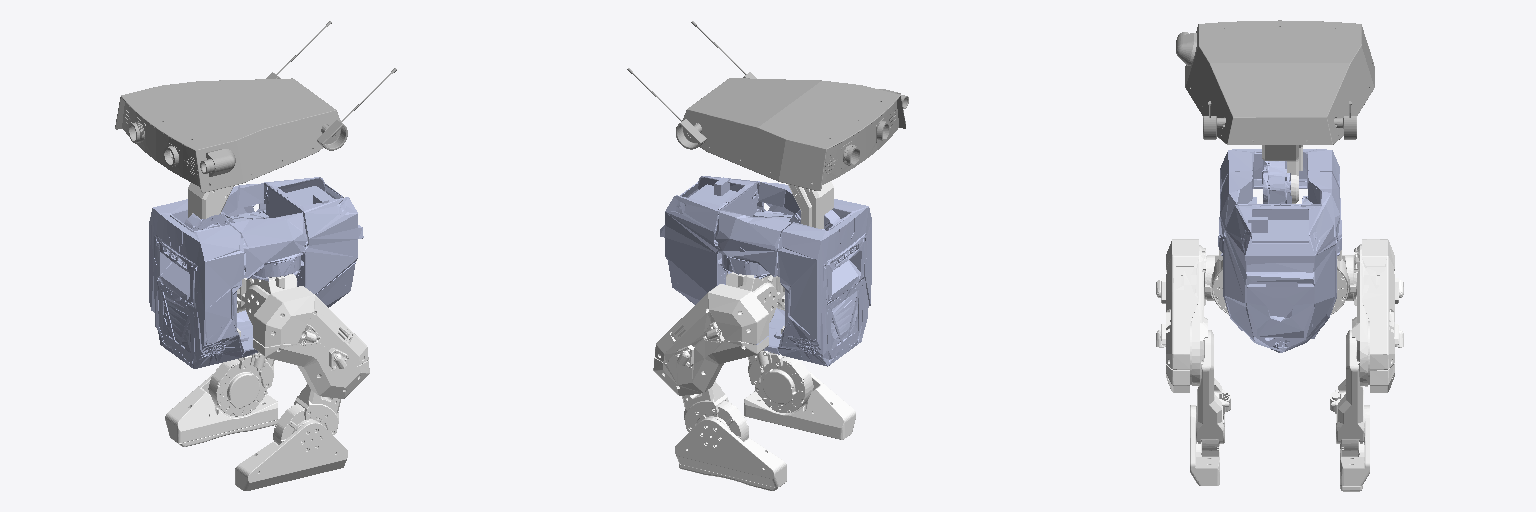
robot.urdf — ocean:
<?xml version="1.0" encoding="utf-8"?>
<!-- This URDF was automatically created by SolidWorks to URDF Exporter! Originally created by Stephen Brawner (brawner@gmail.com) 
     Commit Version: 1.6.0-4-g7f85cfe  Build Version: 1.6.7995.38578
     For more information, please see http://wiki.ros.org/sw_urdf_exporter -->
<robot
  name="ocean">
  <link
    name="base_link">
    <inertial>
      <origin
        xyz="0.033838 -0.0012004 -0.053283"
        rpy="0 0 0" />
      <mass
        value="4.2921" />
      <inertia
        ixx="0.013397"
        ixy="8.1389E-06"
        ixz="-0.0001569"
        iyy="0.010717"
        iyz="2.9147E-05"
        izz="0.00908" />
    </inertial>
    <visual>
      <origin
        xyz="0 0 0"
        rpy="0 0 0" />
      <geometry>
        <mesh
          filename="package://ocean_description/meshes/base_link.STL" />
      </geometry>
      <material
        name="">
        <color
          rgba="0.79216 0.81961 0.93333 1" />
      </material>
    </visual>
    <collision>
      <origin
        xyz="0 0 0"
        rpy="0 0 0" />
      <geometry>
        <mesh
          filename="package://ocean_description/meshes/base_link.STL" />
      </geometry>
    </collision>
  </link>
  <link
    name="leg_r1_link">
    <inertial>
      <origin
        xyz="-0.0041199 -0.0058777 0.050037"
        rpy="0 0 0" />
      <mass
        value="0.33146" />
      <inertia
        ixx="0.00049845"
        ixy="-4.5537E-08"
        ixz="2.2168E-05"
        iyy="0.00030507"
        iyz="2.0354E-06"
        izz="0.00025744" />
    </inertial>
    <visual>
      <origin
        xyz="0 0 0"
        rpy="0 0 0" />
      <geometry>
        <mesh
          filename="package://ocean_description/meshes/leg_r1_link.STL" />
      </geometry>
      <material
        name="">
        <color
          rgba="1 1 1 1" />
      </material>
    </visual>
    <collision>
      <origin
        xyz="0 0 0"
        rpy="0 0 0" />
      <geometry>
        <mesh
          filename="package://ocean_description/meshes/leg_r1_link.STL" />
      </geometry>
    </collision>
  </link>
  <joint
    name="leg_r1_joint"
    type="revolute">
    <origin
      xyz="0.020771 0.045349 -0.0423"
      rpy="-3.1416 0 0" />
    <parent
      link="base_link" />
    <child
      link="leg_r1_link" />
    <axis
      xyz="0 0 -1" />
    <limit
      lower="-0.436"
      upper="0.349"
      effort="100"
      velocity="6" />
  </joint>
  <link
    name="leg_r2_link">
    <inertial>
      <origin
        xyz="-0.03259 -8.6224E-05 0.0065541"
        rpy="0 0 0" />
      <mass
        value="0.15568" />
      <inertia
        ixx="6.954E-05"
        ixy="-1.8081E-07"
        ixz="-1.0241E-05"
        iyy="0.00016138"
        iyz="-1.4022E-07"
        izz="0.00018569" />
    </inertial>
    <visual>
      <origin
        xyz="0 0 0"
        rpy="0 0 0" />
      <geometry>
        <mesh
          filename="package://ocean_description/meshes/leg_r2_link.STL" />
      </geometry>
      <material
        name="">
        <color
          rgba="1 1 1 1" />
      </material>
    </visual>
    <collision>
      <origin
        xyz="0 0 0"
        rpy="0 0 0" />
      <geometry>
        <mesh
          filename="package://ocean_description/meshes/leg_r2_link.STL" />
      </geometry>
    </collision>
  </link>
  <joint
    name="leg_r2_joint"
    type="revolute">
    <origin
      xyz="-0.019601 -0.0054769 0.055609"
      rpy="-1.5708 0 1.5708" />
    <parent
      link="leg_r1_link" />
    <child
      link="leg_r2_link" />
    <axis
      xyz="0 0 -1" />
    <limit
      lower="-0.750"
      upper="0.262"
      effort="100"
      velocity="6" />
  </joint>
  <link
    name="leg_r3_link">
    <inertial>
      <origin
        xyz="-0.039555 -0.043339 -0.018416"
        rpy="0 0 0" />
      <mass
        value="0.73927" />
      <inertia
        ixx="0.0010276"
        ixy="-0.00040466"
        ixz="-9.9665E-06"
        iyy="0.0008075"
        iyz="-1.4606E-05"
        izz="0.0017539" />
    </inertial>
    <visual>
      <origin
        xyz="0 0 0"
        rpy="0 0 0" />
      <geometry>
        <mesh
          filename="package://ocean_description/meshes/leg_r3_link.STL" />
      </geometry>
      <material
        name="">
        <color
          rgba="1 1 1 1" />
      </material>
    </visual>
    <collision>
      <origin
        xyz="0 0 0"
        rpy="0 0 0" />
      <geometry>
        <mesh
          filename="package://ocean_description/meshes/leg_r3_link.STL" />
      </geometry>
    </collision>
  </link>
  <joint
    name="leg_r3_joint"
    type="revolute">
    <origin
      xyz="-0.0697599164232302 0 0.0033867789847717"
      rpy="1.5707963267949 0 1.5707963267949" />
    <parent
      link="leg_r2_link" />
    <child
      link="leg_r3_link" />
    <axis
      xyz="0 0 -1" />
    <limit
      lower="-1.361"
      upper="0.489"
      effort="100"
      velocity="6" />
  </joint>
  <link
    name="leg_r4_link">
    <inertial>
      <origin
        xyz="-0.085353 0.013534 0.014528"
        rpy="0 0 0" />
      <mass
        value="0.45582" />
      <inertia
        ixx="0.00023248"
        ixy="8.0216E-06"
        ixz="1.5757E-05"
        iyy="0.00060487"
        iyz="-8.9449E-07"
        izz="0.00078197" />
    </inertial>
    <visual>
      <origin
        xyz="0 0 0"
        rpy="0 0 0" />
      <geometry>
        <mesh
          filename="package://ocean_description/meshes/leg_r4_link.STL" />
      </geometry>
      <material
        name="">
        <color
          rgba="1 1 1 1" />
      </material>
    </visual>
    <collision>
      <origin
        xyz="0 0 0"
        rpy="0 0 0" />
      <geometry>
        <mesh
          filename="package://ocean_description/meshes/leg_r4_link.STL" />
      </geometry>
    </collision>
  </link>
  <joint
    name="leg_r4_joint"
    type="revolute">
    <origin
      xyz="-0.0848592981439465 -0.0848505720845361 0"
      rpy="0 0 0" />
    <parent
      link="leg_r3_link" />
    <child
      link="leg_r4_link" />
    <axis
      xyz="0 0 -1" />
    <limit
      lower="-0.803"
      upper="1.344"
      effort="100"
      velocity="6" />
  </joint>
  <link
    name="leg_r5_link">
    <inertial>
      <origin
        xyz="0.033054 -0.046256 -0.011541"
        rpy="0 0 0" />
      <mass
        value="0.45151" />
      <inertia
        ixx="0.00024156"
        ixy="-1.2357E-05"
        ixz="2.5375E-05"
        iyy="0.0013142"
        iyz="-5.2075E-05"
        izz="0.0014125" />
    </inertial>
    <visual>
      <origin
        xyz="0 0 0"
        rpy="0 0 0" />
      <geometry>
        <mesh
          filename="package://ocean_description/meshes/leg_r5_link.STL" />
      </geometry>
      <material
        name="">
        <color
          rgba="1 1 1 1" />
      </material>
    </visual>
    <collision>
      <origin
        xyz="0 0 0"
        rpy="0 0 0" />
      <geometry>
        <mesh
          filename="package://ocean_description/meshes/leg_r5_link.STL" />
      </geometry>
    </collision>
  </link>
  <joint
    name="leg_r5_joint"
    type="revolute">
    <origin
      xyz="-0.13521227428467 0.0362544405667555 -0.00435000000000058"
      rpy="3.14159265358979 0 1.5707963267949" />
    <parent
      link="leg_r4_link" />
    <child
      link="leg_r5_link" />
    <axis
      xyz="0 0 -1" />
    <limit
      lower="-1.396"
      upper="1.134"
      effort="100"
      velocity="6" />
  </joint>
  <link
    name="leg_l1_link">
    <inertial>
      <origin
        xyz="-0.0041201 0.0059563 0.050091"
        rpy="0 0 0" />
      <mass
        value="0.33146" />
      <inertia
        ixx="0.0004984450379"
        ixy="8.204847537E-08"
        ixz="2.22046699E-05"
        iyy="0.0003057992258"
        iyz="-2.046161732E-06"
        izz="0.0002567077448" />
    </inertial>
    <visual>
      <origin
        xyz="0 0 0"
        rpy="0 0 0" />
      <geometry>
        <mesh
          filename="package://ocean_description/meshes/leg_l1_link.STL" />
      </geometry>
      <material
        name="">
        <color
          rgba="1 1 1 1" />
      </material>
    </visual>
    <collision>
      <origin
        xyz="0 0 0"
        rpy="0 0 0" />
      <geometry>
        <mesh
          filename="package://ocean_description/meshes/leg_l1_link.STL" />
      </geometry>
    </collision>
  </link>
  <joint
    name="leg_l1_joint"
    type="revolute">
    <origin
      xyz="0.0207708926338017 -0.0471505964321851 -0.0422999999999991"
      rpy="-3.14159265358979 0 0" />
    <parent
      link="base_link" />
    <child
      link="leg_l1_link" />
    <axis
      xyz="0 0 -1" />
    <limit
      lower="-0.349"
      upper="0.436"
      effort="100"
      velocity="6" />
  </joint>
  <link
    name="leg_l2_link">
    <inertial>
      <origin
        xyz="-0.032589 8.2716E-05 0.0065541"
        rpy="0 0 0" />
      <mass
        value="0.15568" />
      <inertia
        ixx="6.953830665E-05"
        ixy="1.738209669E-07"
        ixz="-1.024202042E-05"
        iyy="0.0001613839267"
        iyz="1.368322421E-07"
        izz="0.0001856876145" />
    </inertial>
    <visual>
      <origin
        xyz="0 0 0"
        rpy="0 0 0" />
      <geometry>
        <mesh
          filename="package://ocean_description/meshes/leg_l2_link.STL" />
      </geometry>
      <material
        name="">
        <color
          rgba="1 1 1 1" />
      </material>
    </visual>
    <collision>
      <origin
        xyz="0 0 0"
        rpy="0 0 0" />
      <geometry>
        <mesh
          filename="package://ocean_description/meshes/leg_l2_link.STL" />
      </geometry>
    </collision>
  </link>
  <joint
    name="leg_l2_joint"
    type="revolute">
    <origin
      xyz="-0.01960079285411 0.00550443611557444 0.0556099164232253"
      rpy="1.5707963267949 7.30362053830224E-05 -1.5707963267949" />
    <parent
      link="leg_l1_link" />
    <child
      link="leg_l2_link" />
    <axis
      xyz="0 0 -1" />
    <limit
      lower="-0.262"
      upper="0.750"
      effort="100"
      velocity="6" />
  </joint>
  <link
    name="leg_l3_link">
    <inertial>
      <origin
        xyz="-0.039591 0.043396 -0.018481"
        rpy="0 0 0" />
      <mass
        value="0.73927" />
      <inertia
        ixx="0.0010267"
        ixy="0.00040554"
        ixz="-9.9149E-06"
        iyy="0.00080838"
        iyz="1.4572E-05"
        izz="0.0017538" />
    </inertial>
    <visual>
      <origin
        xyz="0 0 0"
        rpy="0 0 0" />
      <geometry>
        <mesh
          filename="package://ocean_description/meshes/leg_l3_link.STL" />
      </geometry>
      <material
        name="">
        <color
          rgba="1 1 1 1" />
      </material>
    </visual>
    <collision>
      <origin
        xyz="0 0 0"
        rpy="0 0 0" />
      <geometry>
        <mesh
          filename="package://ocean_description/meshes/leg_l3_link.STL" />
      </geometry>
    </collision>
  </link>
  <joint
    name="leg_l3_joint"
    type="revolute">
    <origin
      xyz="-0.0697587935046286 -1.75243179483114E-05 0.0034130140446374"
      rpy="-1.57079632679498 0 -1.57072329058951" />
    <parent
      link="leg_l2_link" />
    <child
      link="leg_l3_link" />
    <axis
      xyz="0 0 -1" />
    <limit
      lower="-0.489"
      upper="1.361"
      effort="100"
      velocity="6" />
  </joint>
  <link
    name="leg_l4_link">
    <inertial>
      <origin
        xyz="0.013624 -0.085298 0.014354"
        rpy="0 0 0" />
      <mass
        value="0.45582" />
      <inertia
        ixx="0.0006083811912"
        ixy="8.045902952E-06"
        ixz="-8.573344614E-07"
        iyy="0.0002348404787"
        iyz="1.591592486E-05"
        izz="0.0007874957861" />
    </inertial>
    <visual>
      <origin
        xyz="0 0 0"
        rpy="0 0 0" />
      <geometry>
        <mesh
          filename="package://ocean_description/meshes/leg_l4_link.STL" />
      </geometry>
      <material
        name="">
        <color
          rgba="1 1 1 1" />
      </material>
    </visual>
    <collision>
      <origin
        xyz="0 0 0"
        rpy="0 0 0" />
      <geometry>
        <mesh
          filename="package://ocean_description/meshes/leg_l4_link.STL" />
      </geometry>
    </collision>
  </link>
  <joint
    name="leg_l4_joint"
    type="revolute">
    <origin
      xyz="-0.0848640099907751 0.0848758418377773 0"
      rpy="0 0 -1.5707963267949" />
    <parent
      link="leg_l3_link" />
    <child
      link="leg_l4_link" />
    <axis
      xyz="0 0 -1" />
    <limit
      lower="-1.344"
      upper="0.803"
      effort="100"
      velocity="6" />
  </joint>
  <link
    name="leg_l5_link">
    <inertial>
      <origin
        xyz="-0.034306 -0.042595 -0.010554"
        rpy="0 0 0" />
      <mass
        value="0.45151" />
      <inertia
        ixx="0.0002673753309"
        ixy="1.362910539E-05"
        ixz="-2.867115607E-05"
        iyy="0.001301581259"
        iyz="-5.883318966E-05"
        izz="0.001417463103" />
    </inertial>
    <visual>
      <origin
        xyz="0 0 0"
        rpy="0 0 0" />
      <geometry>
        <mesh
          filename="package://ocean_description/meshes/leg_l5_link.STL" />
      </geometry>
      <material
        name="">
        <color
          rgba="1 1 1 1" />
      </material>
    </visual>
    <collision>
      <origin
        xyz="0 0 0"
        rpy="0 0 0" />
      <geometry>
        <mesh
          filename="package://ocean_description/meshes/leg_l5_link.STL" />
      </geometry>
    </collision>
  </link>
  <joint
    name="leg_l5_joint"
    type="revolute">
    <origin
      xyz="0.036235 -0.13523 -0.00435"
      rpy="3.1416 0 3.1416" />
    <parent
      link="leg_l4_link" />
    <child
      link="leg_l5_link" />
    <axis
      xyz="0 0 -1" />
    <limit
      lower="-1.134"
      upper="1.396"
      effort="100"
      velocity="6" />
  </joint>
  <link
    name="neck_n1_link">
    <inertial>
      <origin
        xyz="0.0056163 -0.068891 -0.01248"
        rpy="0 0 0" />
      <mass
        value="0.24777" />
      <inertia
        ixx="0.00028574"
        ixy="2.0669E-05"
        ixz="3.0466E-06"
        iyy="0.00011057"
        iyz="-4.8832E-05"
        izz="0.00027429" />
    </inertial>
    <visual>
      <origin
        xyz="0 0 0"
        rpy="0 0 0" />
      <geometry>
        <mesh
          filename="package://ocean_description/meshes/neck_n1_link.STL" />
      </geometry>
      <material
        name="">
        <color
          rgba="1 1 1 1" />
      </material>
    </visual>
    <collision>
      <origin
        xyz="0 0 0"
        rpy="0 0 0" />
      <geometry>
        <mesh
          filename="package://ocean_description/meshes/neck_n1_link.STL" />
      </geometry>
    </collision>
  </link>
  <joint
    name="neck_n1_joint"
    type="revolute">
    <origin
      xyz="-0.0742166695062486 0.0150861728537563 0.0205492071458914"
      rpy="-1.5707963267949 0 0" />
    <parent
      link="base_link" />
    <child
      link="neck_n1_link" />
    <axis
      xyz="0 0 -1" />
    <limit
      lower="-1.065"
      upper="0.436"
      effort="100"
      velocity="6" />
  </joint>
  <link
    name="neck_n2_link">
    <inertial>
      <origin
        xyz="0.042035 0.0075777 -0.027871"
        rpy="0 0 0" />
      <mass
        value="0.10044" />
      <inertia
        ixx="4.8276E-05"
        ixy="-1.6348E-05"
        ixz="2.0417E-06"
        iyy="9.9239E-05"
        iyz="4.2677E-07"
        izz="9.0874E-05" />
    </inertial>
    <visual>
      <origin
        xyz="0 0 0"
        rpy="0 0 0" />
      <geometry>
        <mesh
          filename="package://ocean_description/meshes/neck_n2_link.STL" />
      </geometry>
      <material
        name="">
        <color
          rgba="1 1 1 1" />
      </material>
    </visual>
    <collision>
      <origin
        xyz="0 0 0"
        rpy="0 0 0" />
      <geometry>
        <mesh
          filename="package://ocean_description/meshes/neck_n2_link.STL" />
      </geometry>
    </collision>
  </link>
  <joint
    name="neck_n2_joint"
    type="revolute">
    <origin
      xyz="0.030476 -0.1167 -0.0447"
      rpy="3.1416 0 -1.0472" />
    <parent
      link="neck_n1_link" />
    <child
      link="neck_n2_link" />
    <axis
      xyz="0 0 -1" />
    <limit
      lower="-0.698"
      upper="1.326"
      effort="100"
      velocity="6" />
  </joint>
  <link
    name="neck_n3_link">
    <inertial>
      <origin
        xyz="-0.016589 -2.7487E-06 -0.020892"
        rpy="0 0 0" />
      <mass
        value="0.1462" />
      <inertia
        ixx="9.3798E-05"
        ixy="1.3534E-08"
        ixz="-7.699E-08"
        iyy="9.1184E-05"
        iyz="-2.1794E-10"
        izz="0.00016521" />
    </inertial>
    <visual>
      <origin
        xyz="0 0 0"
        rpy="0 0 0" />
      <geometry>
        <mesh
          filename="package://ocean_description/meshes/neck_n3_link.STL" />
      </geometry>
      <material
        name="">
        <color
          rgba="0.75294 0.75294 0.75294 1" />
      </material>
    </visual>
    <collision>
      <origin
        xyz="0 0 0"
        rpy="0 0 0" />
      <geometry>
        <mesh
          filename="package://ocean_description/meshes/neck_n3_link.STL" />
      </geometry>
    </collision>
  </link>
  <joint
    name="neck_n3_joint"
    type="revolute">
    <origin
      xyz="0.0304840942132121 0.0176000000000001 -0.0283000000000009"
      rpy="1.5707963267949 0 -1.0471975511966" />
    <parent
      link="neck_n2_link" />
    <child
      link="neck_n3_link" />
    <axis
      xyz="0 0 -1" />
    <limit
      lower="-1.571"
      upper="1.571"
      effort="100"
      velocity="6" />
  </joint>
  <link
    name="neck_n4_link">
    <inertial>
      <origin
        xyz="0.00090398 0.010912 -0.10923"
        rpy="0 0 0" />
      <mass
        value="1.0461" />
      <inertia
        ixx="0.0046317"
        ixy="-2.0087E-06"
        ixz="2.4263E-05"
        iyy="0.009285"
        iyz="-0.0001835"
        izz="0.0050467" />
    </inertial>
    <visual>
      <origin
        xyz="0 0 0"
        rpy="0 0 0" />
      <geometry>
        <mesh
          filename="package://ocean_description/meshes/neck_n4_link.STL" />
      </geometry>
      <material
        name="">
        <color
          rgba="0.75294 0.75294 0.75294 1" />
      </material>
    </visual>
    <collision>
      <origin
        xyz="0 0 0"
        rpy="0 0 0" />
      <geometry>
        <mesh
          filename="package://ocean_description/meshes/neck_n4_link.STL" />
      </geometry>
    </collision>
  </link>
  <joint
    name="neck_n4_joint"
    type="revolute">
    <origin
      xyz="-0.111550000000001 0 -0.0157999999999999"
      rpy="-1.5707963267949 0 1.57079632679489" />
    <parent
      link="neck_n3_link" />
    <child
      link="neck_n4_link" />
    <axis
      xyz="0 0 -1" />
    <limit
      lower="-0.785"
      upper="0.785"
      effort="100"
      velocity="6" />
  </joint>
  <link
    name="imu_link">
    <inertial>
      <origin
        xyz="0 0 0"
        rpy="0 0 0" />
      <mass
        value="0" />
      <inertia
        ixx="0"
        ixy="0"
        ixz="0"
        iyy="0"
        iyz="0"
        izz="0" />
    </inertial>
    <visual>
      <origin
        xyz="0 0 0"
        rpy="0 0 0" />
      <geometry>
        <mesh
          filename="package://ocean_description/meshes/imu_link.STL" />
      </geometry>
      <material
        name="">
        <color
          rgba="1 1 1 1" />
      </material>
    </visual>
    <collision>
      <origin
        xyz="0 0 0"
        rpy="0 0 0" />
      <geometry>
        <mesh
          filename="package://ocean_description/meshes/imu_link.STL" />
      </geometry>
    </collision>
  </link>
  <joint
    name="imu_joint"
    type="fixed">
    <origin
      xyz="-0.0247152340596654 -0.000913827699595732 -0.1587"
      rpy="0 0 0" />
    <parent
      link="base_link" />
    <child
      link="imu_link" />
    <axis
      xyz="0 0 0" />
    <limit
      lower="-3.14"
      upper="3.14"
      effort="1"
      velocity="1" />
  </joint>
</robot>

--- What the picture shows (computed from the rendered views, not written in the file) ---
3 views of the same robot in one strip: view 1: azimuth 30°, elevation 25°; view 2: azimuth 150°, elevation 25°; view 3: azimuth 270°, elevation 25° (orthographic).
Model ocean with 16 links and 15 joints (14 revolute, 1 fixed), rooted at base_link, posed all joints at 0.
Links seen in each view (by area): view 1: base_link, neck_n4_link, leg_l3_link, leg_l5_link, leg_r5_link, leg_r4_link, leg_l4_link, neck_n1_link, leg_l1_link, leg_l2_link; view 2: base_link, neck_n4_link, leg_r3_link, leg_r5_link, leg_l5_link, leg_l4_link, leg_r4_link, neck_n1_link, leg_r1_link, leg_r2_link; view 3: neck_n4_link, base_link, leg_r3_link, leg_l3_link, leg_r4_link, leg_l4_link, leg_r5_link, leg_l5_link, neck_n1_link, leg_r1_link, leg_l1_link.
Link boxes in pixels (<box>): base_link: <box>149,177,363,368</box>; neck_n4_link: <box>115,21,396,192</box>; leg_l3_link: <box>253,286,369,398</box>; leg_l5_link: <box>235,421,347,490</box>; leg_r5_link: <box>165,374,278,446</box>; leg_r4_link: <box>208,310,274,416</box>; leg_l4_link: <box>273,384,340,444</box>; neck_n1_link: <box>188,183,233,218</box>; leg_l1_link: <box>244,274,296,324</box>; leg_l2_link: <box>241,285,269,321</box>; base_link: <box>660,176,871,366</box>; neck_n4_link: <box>627,21,908,190</box>; leg_r3_link: <box>653,284,768,395</box>; leg_r5_link: <box>675,418,786,490</box>; leg_l5_link: <box>744,372,855,439</box>; leg_l4_link: <box>748,308,813,412</box>; leg_r4_link: <box>682,380,748,441</box>; neck_n1_link: <box>788,181,833,228</box>; leg_r1_link: <box>726,272,777,322</box>; leg_r2_link: <box>753,282,780,319</box>; neck_n4_link: <box>1176,20,1374,144</box>; base_link: <box>1218,149,1341,352</box>; leg_r3_link: <box>1352,239,1403,392</box>; leg_l3_link: <box>1156,239,1207,392</box>; leg_r4_link: <box>1330,330,1363,456</box>; leg_l4_link: <box>1196,330,1230,456</box>; leg_r5_link: <box>1340,405,1369,491</box>; leg_l5_link: <box>1190,405,1219,485</box>; neck_n1_link: <box>1262,145,1302,203</box>; leg_r1_link: <box>1331,250,1348,314</box>; leg_l1_link: <box>1212,250,1228,314</box>.
Size in the robot's own frame: 0.4047 by 0.3717 by 0.6955 metres.
16 mesh visuals loaded from 16 distinct referenced files (16 binary STL).
